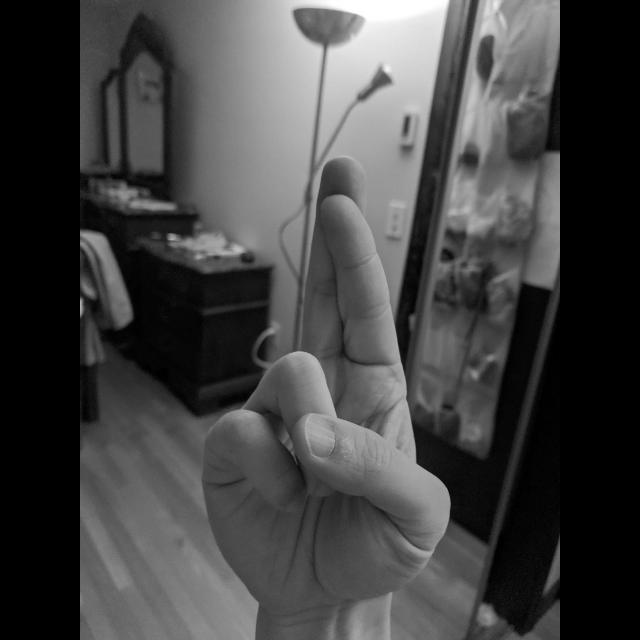R: (194, 149, 456, 613)
